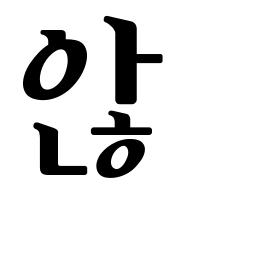Gaji: (104, 39, 150, 78)
